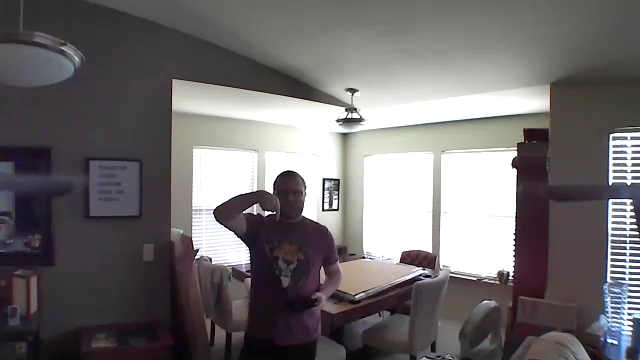down: (254, 182, 283, 222)
